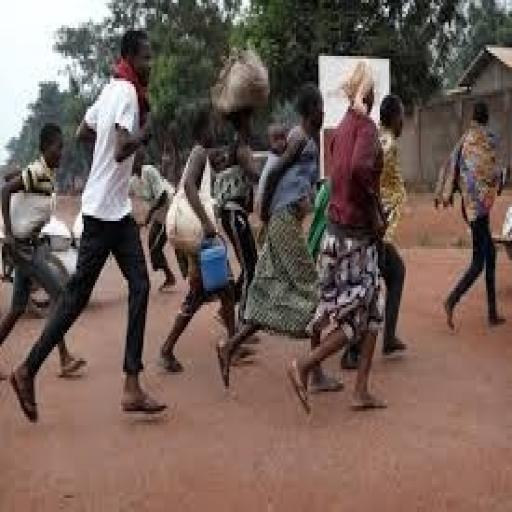running: (8, 25, 172, 425), (285, 58, 393, 420), (0, 120, 91, 384), (432, 95, 508, 336)
